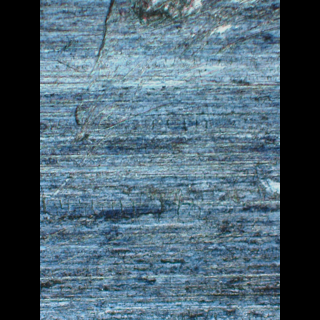d: (68, 0, 247, 158)
